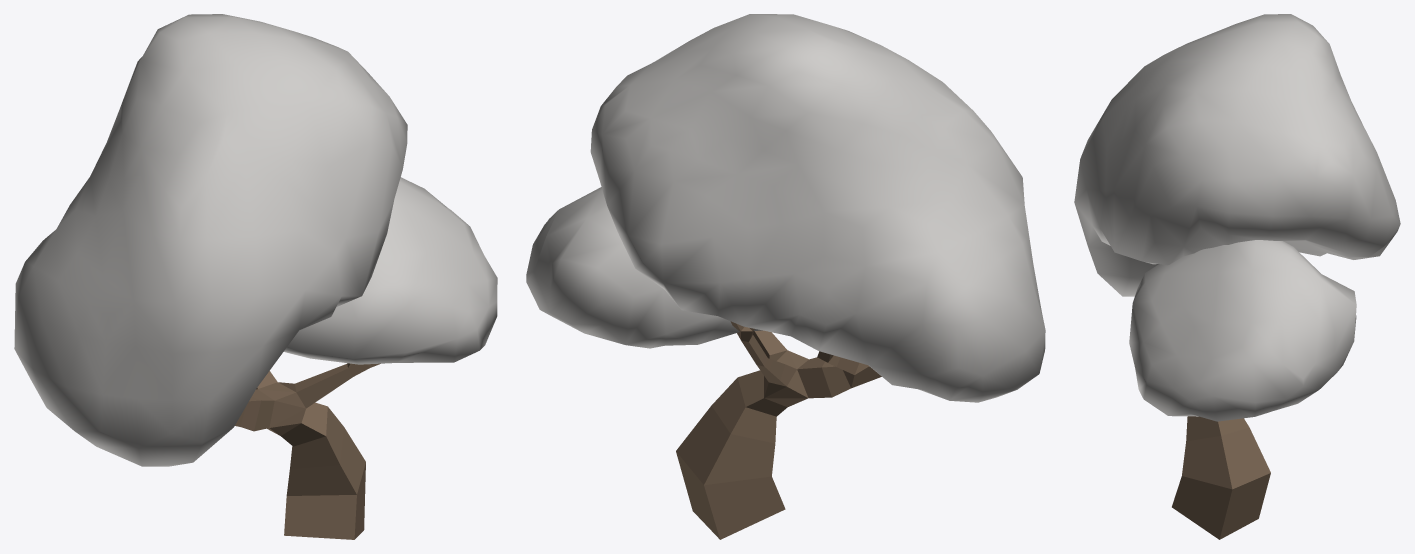
The model's file is Bush_006.fbx.
The picture shows the model from 3 angles, left to right: view 1: azimuth 30°, elevation 25°; view 2: azimuth 150°, elevation 25°; view 3: azimuth 270°, elevation 25°; orthographic projection. The views are drawn at different scales.
Parts seen in each view (by area): view 1: Bush.006; view 2: Bush.006; view 3: Bush.006.
Part boxes in pixels (x1,y1,x2,y2): Bush.006: (14, 14, 497, 539); Bush.006: (526, 14, 1045, 539); Bush.006: (1074, 14, 1400, 539).
Size of the model in its own units: 355 by 377 by 243.
